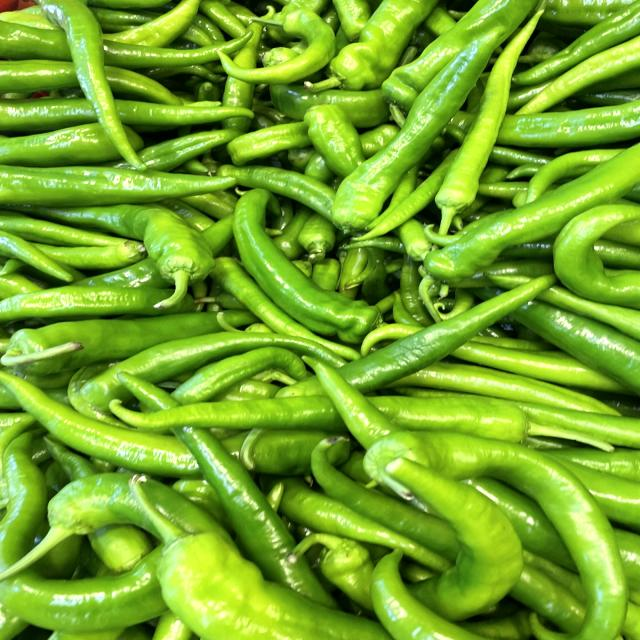green pepper: (234, 190, 394, 349), (32, 0, 151, 167)
